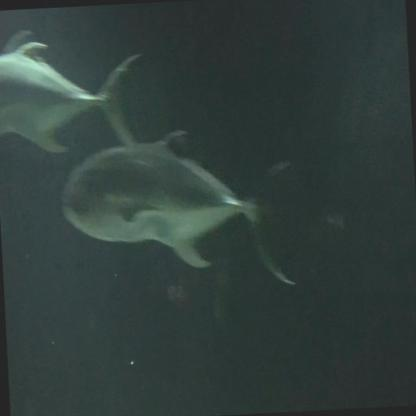fish: (57, 120, 299, 303), (0, 35, 149, 172)
